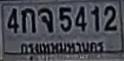1: (90, 5, 98, 30)
2: (104, 5, 116, 30)
4: (74, 5, 86, 30), (7, 7, 18, 32)
5: (58, 6, 70, 31)
A01: (21, 8, 35, 32)
A08: (37, 7, 52, 32)
BKK: (18, 40, 105, 56)
